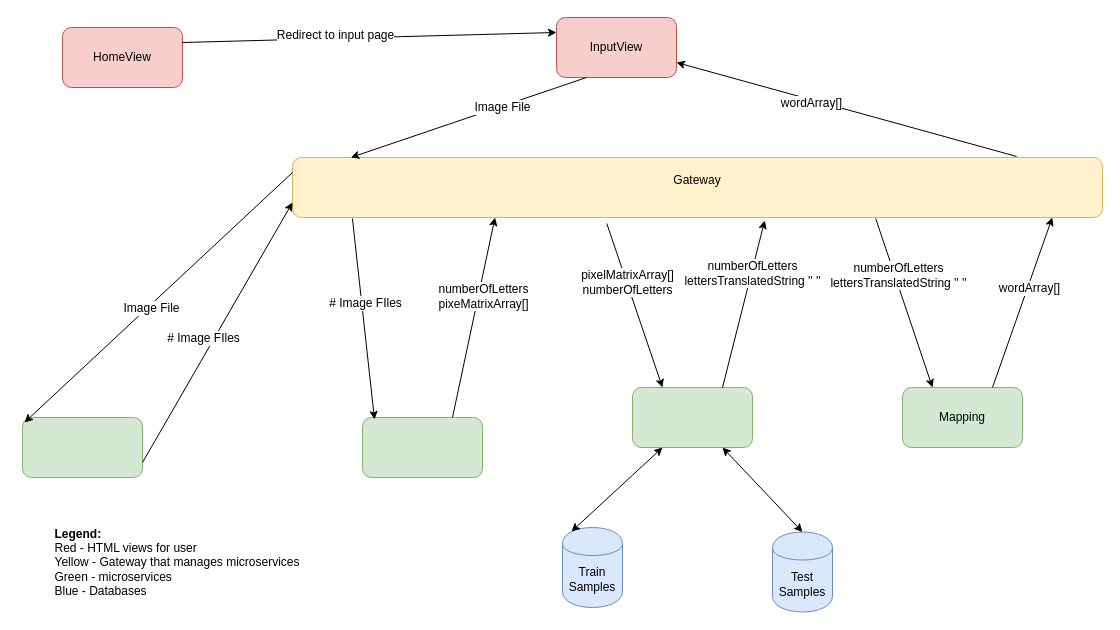
This 1120x630 diagram has some shape labels left out. The shapes that lost their labels are listed below. From the top down, each one's centre as x and y in pixels, then its label:
At (x=692, y=417): "CharReplacement".
At (x=82, y=447): "LineSegmentation".
At (x=422, y=447): "CharSegmentation".
